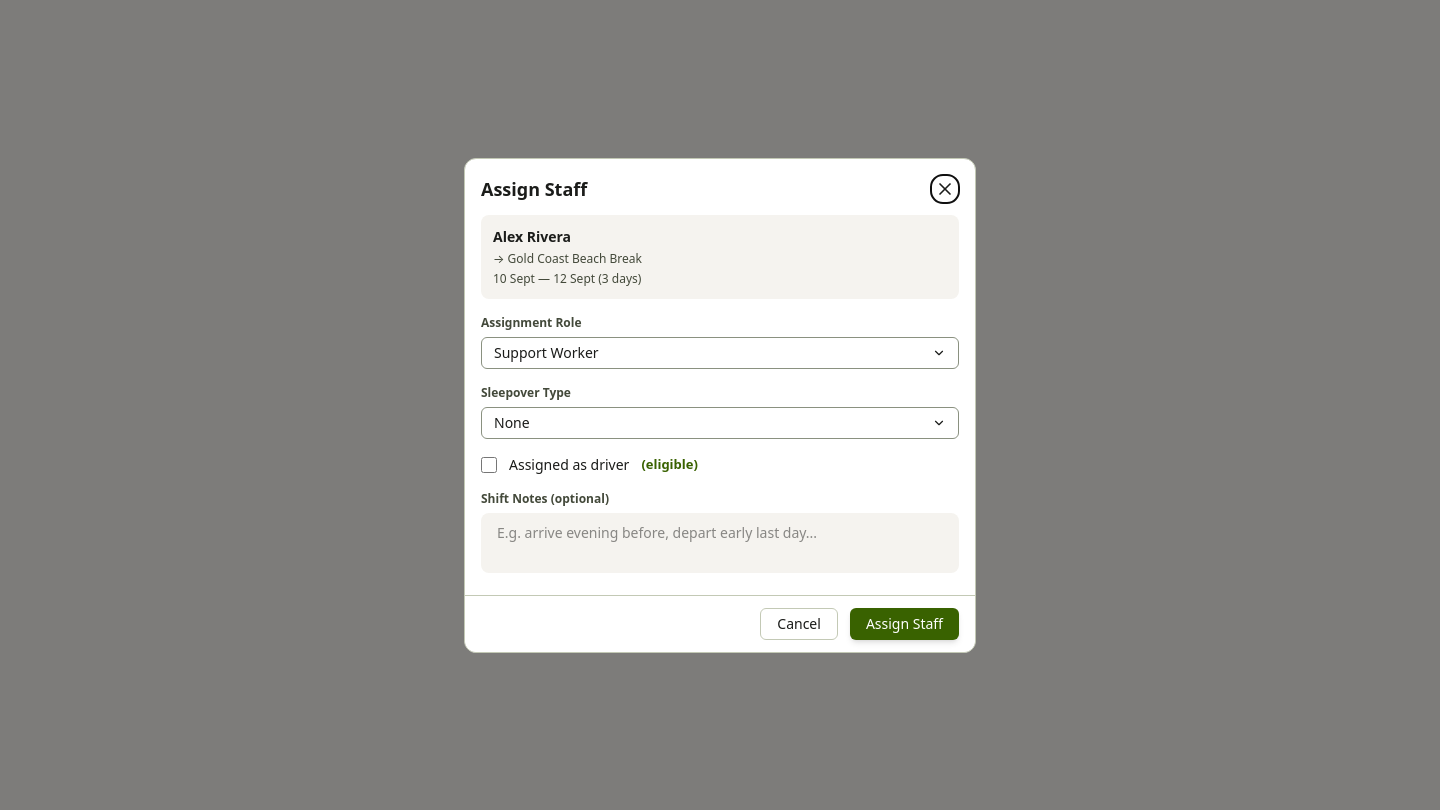
Test case: StaffAssignModal — live conflict check (trip-side parity) › surfaces server-rejected findings from a 422 on submit
Click the button "Assign Staff": x=904, y=624 [850,608,959,640]
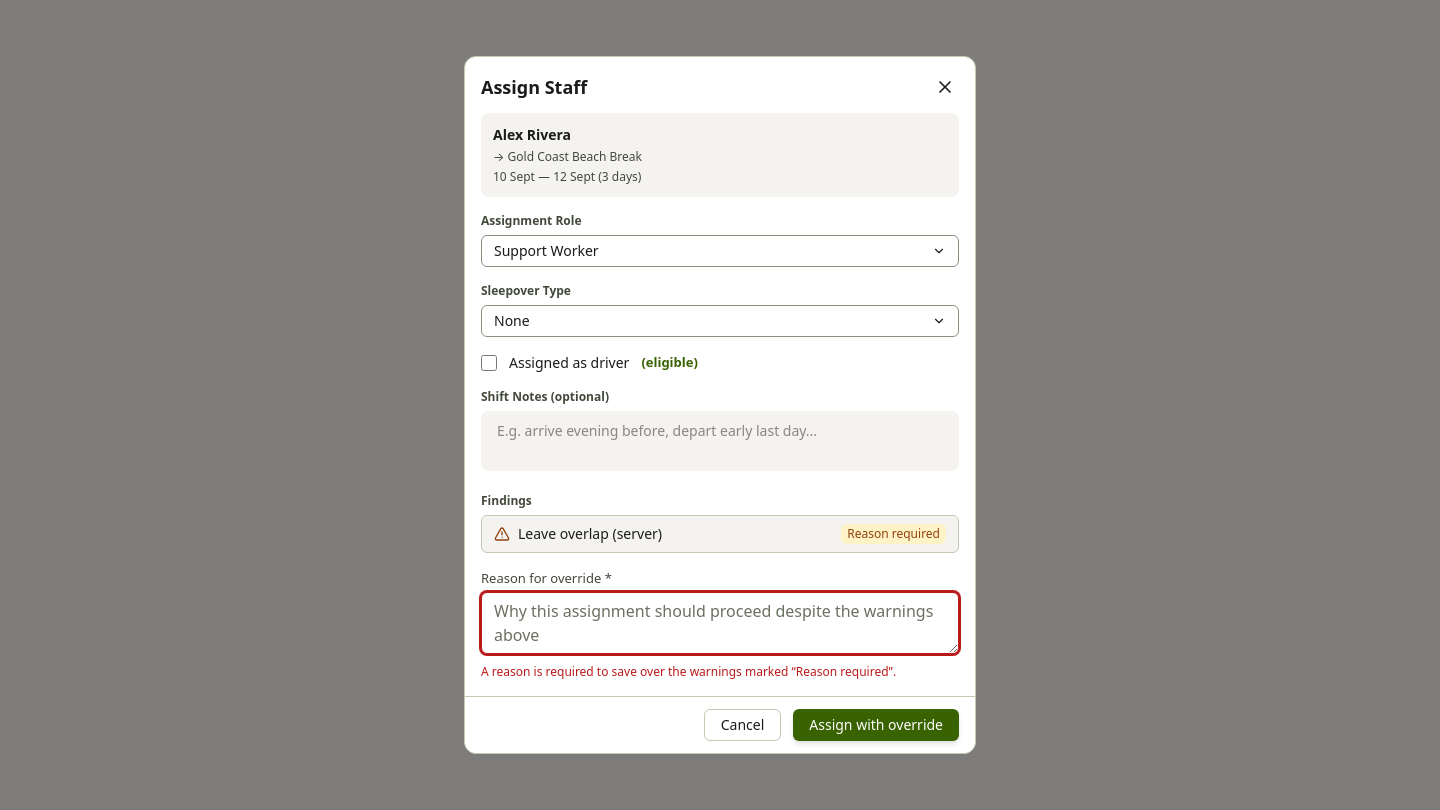
Check: the text "Leave overlap (server)" is shown, box [518,524,662,544]
